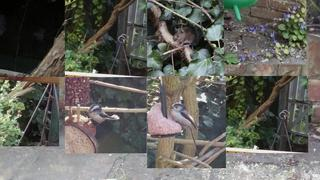long tailed tit: (170, 103, 199, 158), (85, 104, 120, 128)
mouse: (173, 27, 197, 50)
